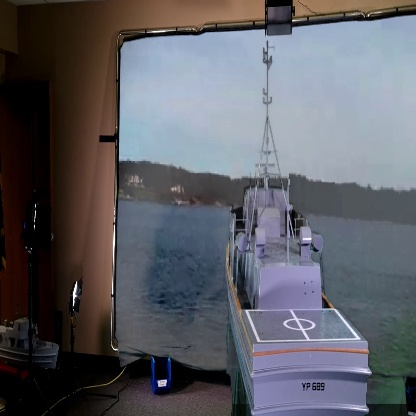YP689: (224, 41, 376, 416)
